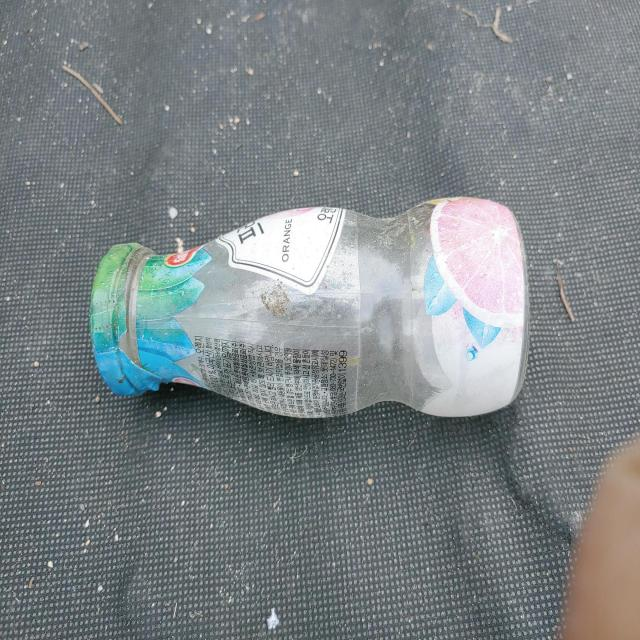glass: (90, 196, 530, 418)
